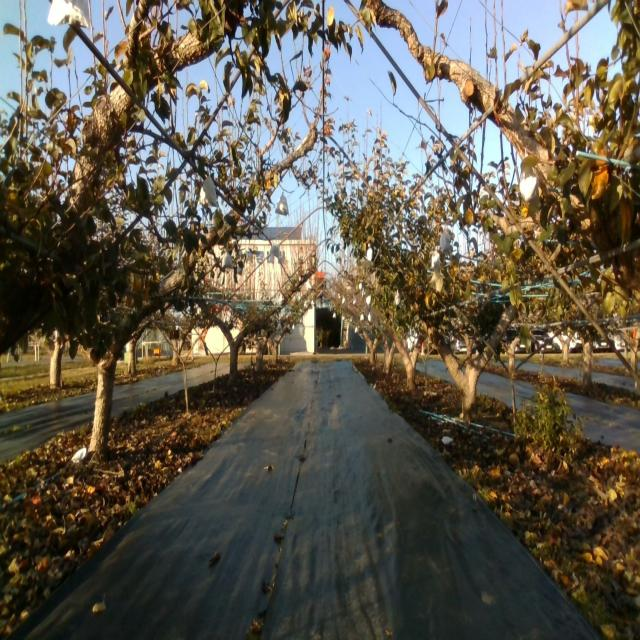pearbags: (198, 176, 218, 208), (520, 174, 539, 203), (275, 191, 290, 218), (440, 232, 450, 253), (222, 251, 233, 269)
